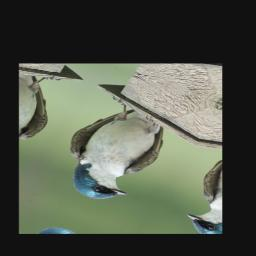Swallow: (43, 91, 184, 210)
